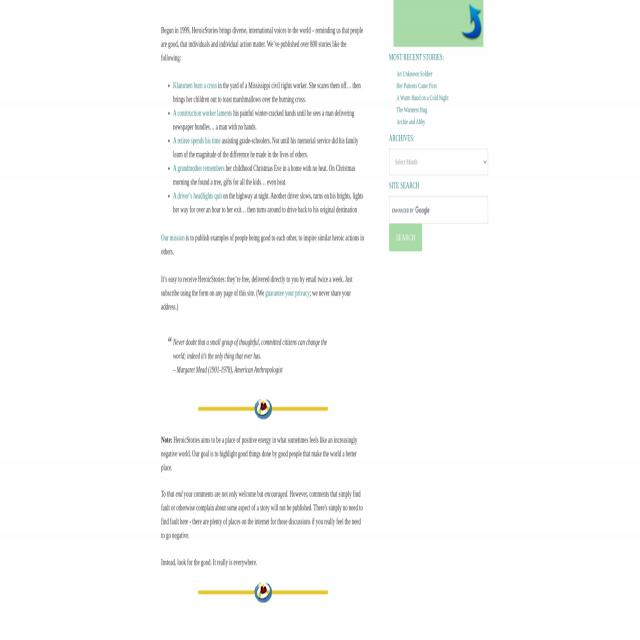button: (389, 224, 422, 252)
field: (389, 148, 488, 176), (389, 196, 488, 224)
